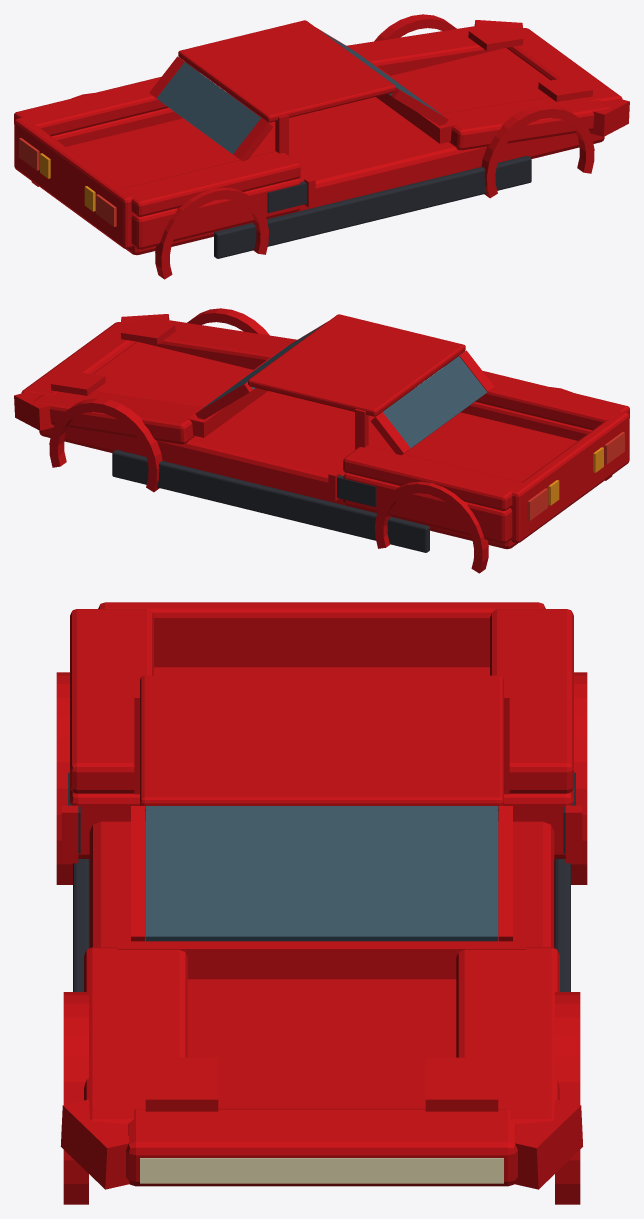
File: chassis_shell.obj
The picture shows the model from 3 angles, top to bottom: view 1: azimuth 30°, elevation 25°; view 2: azimuth 150°, elevation 25°; view 3: azimuth 270°, elevation 25°; orthographic projection. The views are drawn at different scales.
Visible parts, largest first — view 1: arch; view 2: arch; view 3: arch.
Boxes of the visible parts, box(x1,y1,x2,y2) form: arch: box(14, 14, 629, 279); arch: box(14, 308, 629, 573); arch: box(56, 602, 587, 1204).
Bounding box in the file's own units: 4.21 × 0.9222 × 1.89.
